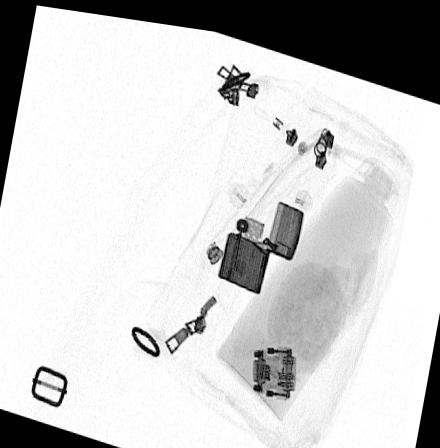Lighter: (216, 192, 303, 287)
